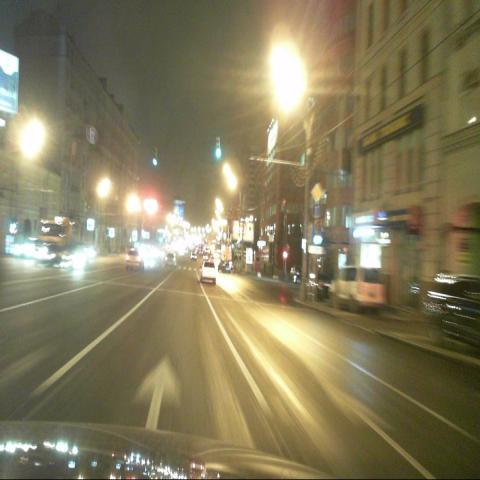2_1: (310, 183, 323, 202)
4_1_1: (312, 204, 321, 219)
